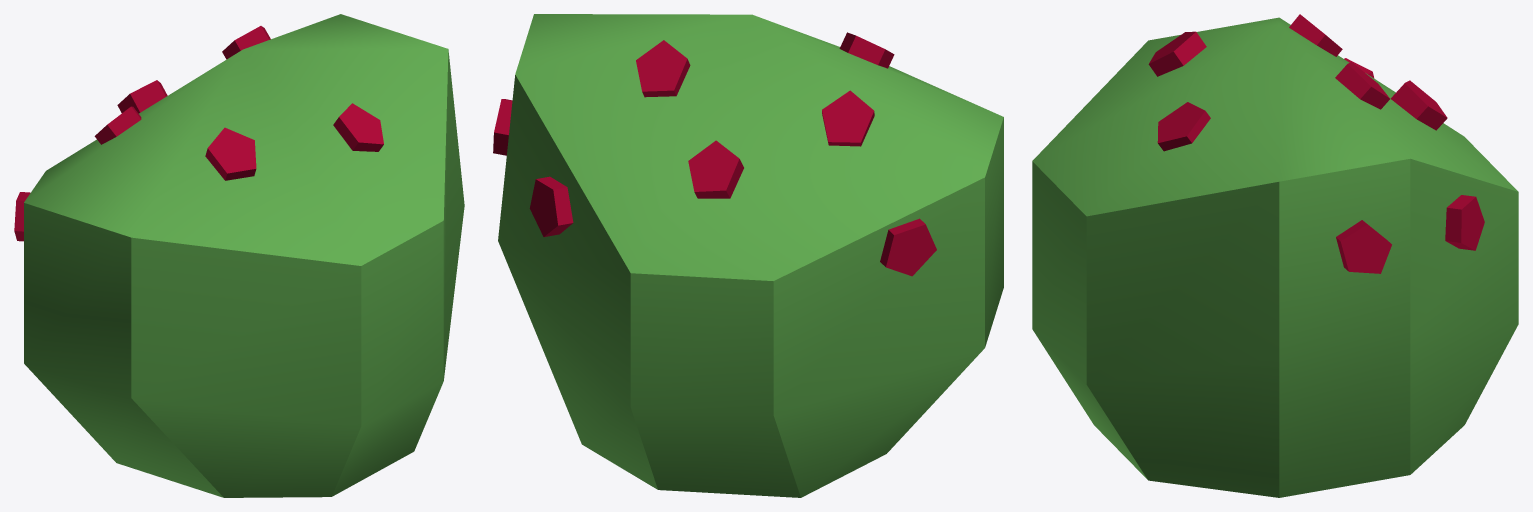
The model's file is Arbusto.fbx.
3 views of the same model, side by side, from view 1: azimuth 30°, elevation 25°; view 2: azimuth 150°, elevation 25°; view 3: azimuth 270°, elevation 25° (orthographic). The views are drawn at different scales.
Parts seen in each view (by area): view 1: pCylinder14; view 2: pCylinder14; view 3: pCylinder14.
Boxes of the visible parts, x1,y1,x2,y2 form: pCylinder14: (14,14,464,497); pCylinder14: (493,14,1003,497); pCylinder14: (1032,14,1518,497).
Size of the model in its own units: 3.14 by 2.6 by 2.87.
